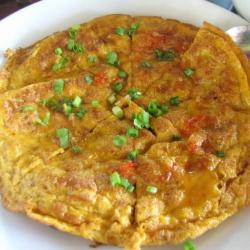omelette: (2, 15, 250, 237)
